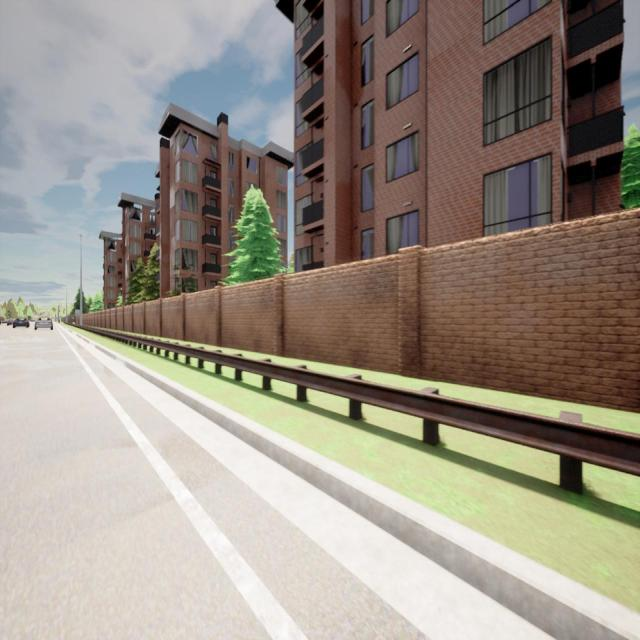Traffic_Signs: (75, 310, 80, 314)
Vehicle: (34, 316, 53, 330), (12, 317, 30, 328), (7, 318, 12, 326)
